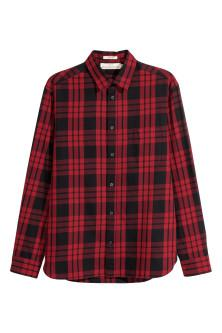teeshirt: (7, 50, 216, 289)
